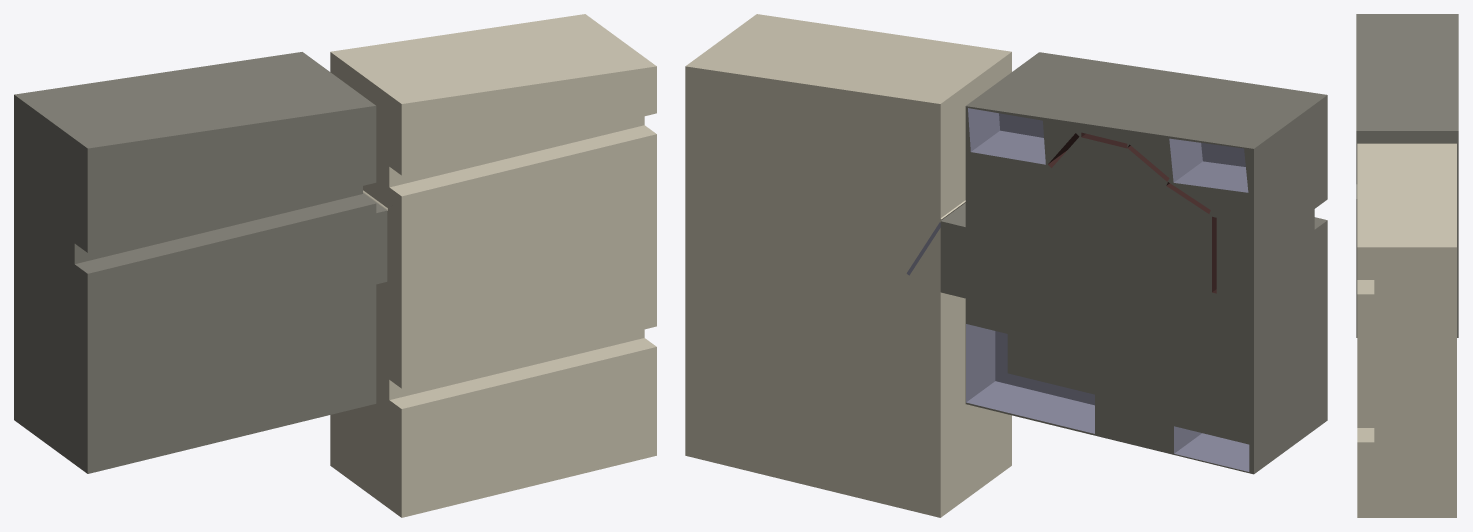
Rendered from CR1_DoorAngle3.obj.
The picture shows the model from 3 angles, left to right: view 1: azimuth 30°, elevation 25°; view 2: azimuth 150°, elevation 25°; view 3: azimuth 270°, elevation 25°; orthographic projection. The views are drawn at different scales.
Parts seen in each view (by area): view 1: obj18, obj9, obj1, obj12, obj13, obj19, obj21, obj5, obj77, obj15, obj76, obj4 (+6 smaller); view 2: obj94, obj10, obj13, obj19, obj21, obj77, obj76, obj45, obj14, obj42, obj96, obj33 (+7 smaller); view 3: obj22, obj19, obj21, obj20, obj4, obj8.
Boxes of the visible parts, x1=… form: obj18: x1=87, y1=203, x2=376, y2=473; obj9: x1=401, y1=134, x2=656, y2=388; obj1: x1=401, y1=347, x2=656, y2=517; obj12: x1=87, y1=106, x2=376, y2=252; obj13: x1=14, y1=95, x2=87, y2=473; obj19: x1=14, y1=52, x2=375, y2=148; obj21: x1=330, y1=14, x2=656, y2=103; obj5: x1=401, y1=66, x2=656, y2=175; obj77: x1=330, y1=197, x2=401, y2=517; obj15: x1=75, y1=194, x2=375, y2=273; obj76: x1=330, y1=52, x2=401, y2=209; obj4: x1=390, y1=125, x2=656, y2=196; obj94: x1=685, y1=66, x2=940, y2=517; obj10: x1=965, y1=106, x2=1253, y2=474; obj13: x1=1254, y1=95, x2=1327, y2=473; obj19: x1=966, y1=52, x2=1326, y2=148; obj21: x1=686, y1=14, x2=1011, y2=103; obj77: x1=940, y1=292, x2=1011, y2=517; obj76: x1=940, y1=52, x2=1011, y2=217; obj45: x1=966, y1=381, x2=1094, y2=433; obj14: x1=1254, y1=314, x2=1307, y2=403; obj42: x1=966, y1=324, x2=995, y2=402; obj96: x1=940, y1=221, x2=965, y2=298; obj33: x1=1174, y1=433, x2=1249, y2=471; obj22: x1=1357, y1=247, x2=1456, y2=517; obj19: x1=1356, y1=14, x2=1458, y2=130; obj21: x1=1357, y1=143, x2=1456, y2=247; obj20: x1=1356, y1=131, x2=1458, y2=337; obj4: x1=1357, y1=280, x2=1374, y2=294; obj8: x1=1357, y1=428, x2=1374, y2=442.
Bounding box in the file's own units: 486 × 364 × 109.
